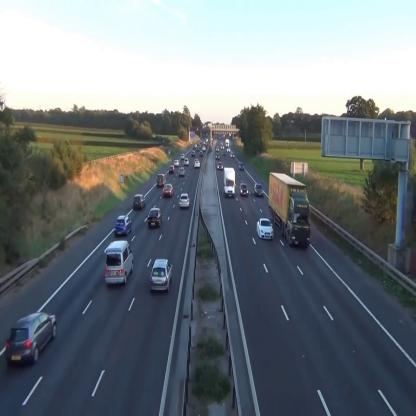car: (6, 311, 57, 367), (150, 258, 173, 292), (256, 218, 274, 241), (114, 214, 132, 236), (147, 209, 163, 227), (133, 194, 146, 210), (179, 193, 190, 208), (163, 184, 174, 198), (239, 183, 249, 197), (254, 183, 264, 196), (157, 174, 166, 187), (168, 164, 176, 172), (178, 168, 186, 176), (174, 158, 180, 168), (217, 161, 223, 170), (239, 161, 245, 170), (194, 160, 200, 168), (184, 158, 189, 166)
lorry: (269, 172, 311, 248), (105, 239, 134, 285), (224, 167, 235, 197)
